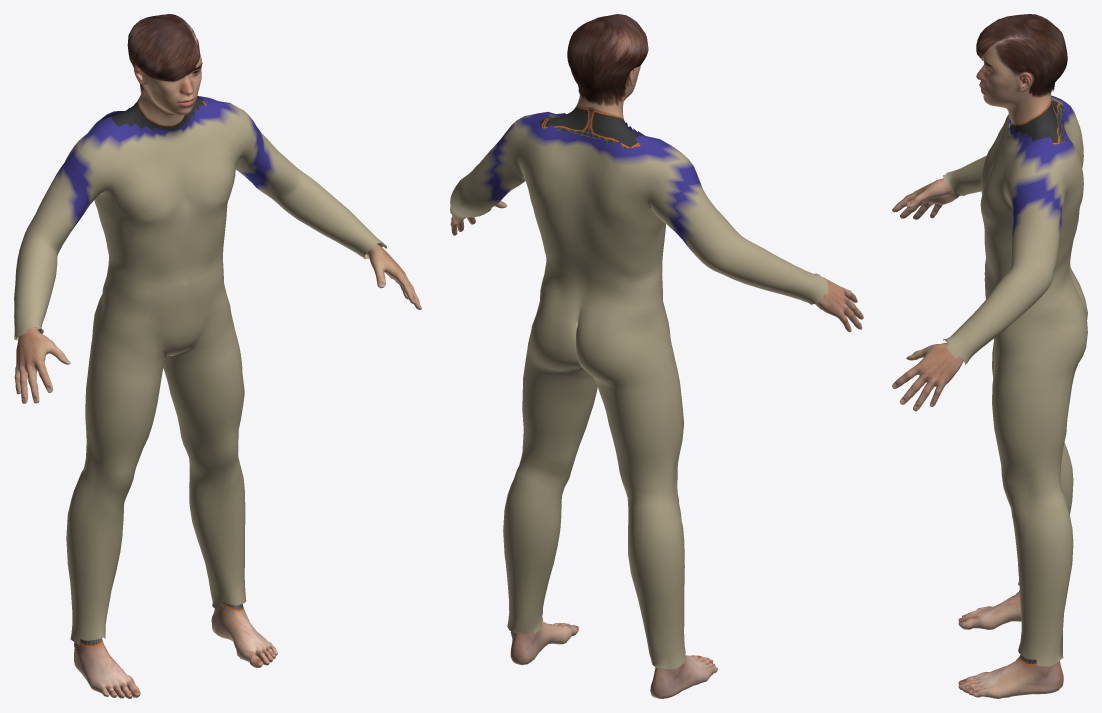
File: crew_RIGEL.glb
The picture shows the model from 3 angles, left to right: view 1: azimuth 30°, elevation 25°; view 2: azimuth 150°, elevation 25°; view 3: azimuth 270°, elevation 25°; orthographic projection. The views are drawn at different scales.
Visible parts, largest first — view 1: RIGEL_uniform, RIGEL_skin, RIGEL_short03; view 2: RIGEL_uniform, RIGEL_skin, RIGEL_short03; view 3: RIGEL_uniform, RIGEL_skin, RIGEL_short03.
Part boxes in pixels (<box>): RIGEL_uniform: <box>14,96,386,645</box>; RIGEL_skin: <box>14,44,421,698</box>; RIGEL_short03: <box>127,14,200,96</box>; RIGEL_uniform: <box>450,112,828,669</box>; RIGEL_skin: <box>450,66,863,698</box>; RIGEL_short03: <box>567,14,648,106</box>; RIGEL_uniform: <box>943,95,1087,666</box>; RIGEL_skin: <box>892,38,1066,698</box>; RIGEL_short03: <box>976,14,1067,97</box>.
Size of the model in its own units: 1.17 by 1.8 by 0.5004.
Materials: 13 (12 with a texture image).
